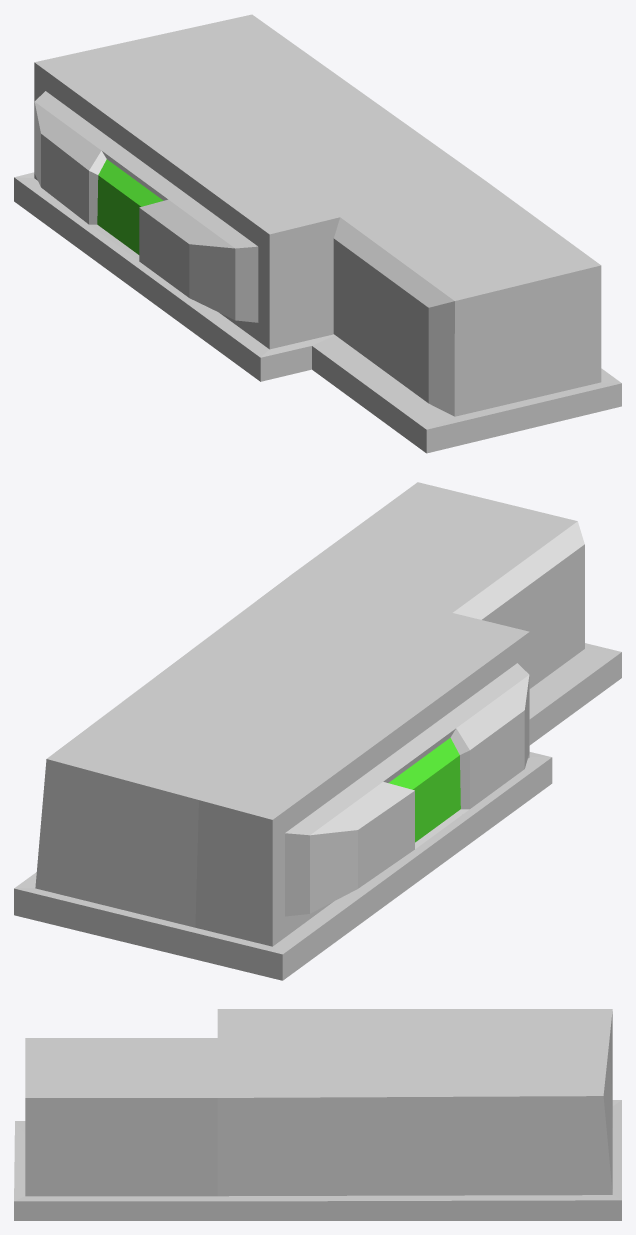
Rendered from Bateria.fbx.
The picture shows the model from 3 angles, top to bottom: view 1: azimuth 30°, elevation 25°; view 2: azimuth 150°, elevation 25°; view 3: azimuth 270°, elevation 25°; orthographic projection. The views are drawn at different scales.
Parts seen in each view (by area): view 1: Cube; view 2: Cube; view 3: Cube.
Boxes of the visible parts, x1=… form: Cube: x1=14, y1=14, x2=621, y2=453; Cube: x1=14, y1=482, x2=621, y2=980; Cube: x1=14, y1=1009, x2=621, y2=1220.
Size of the model in its own units: 481 by 239 by 1122.
